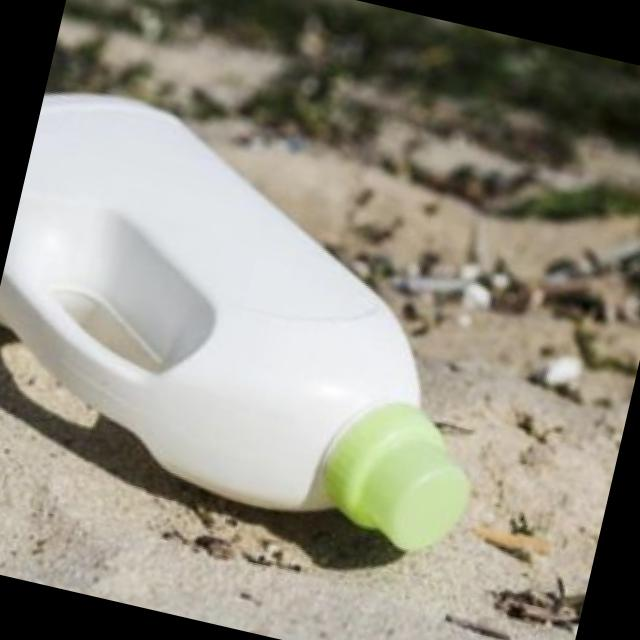general: (0, 72, 557, 563)
